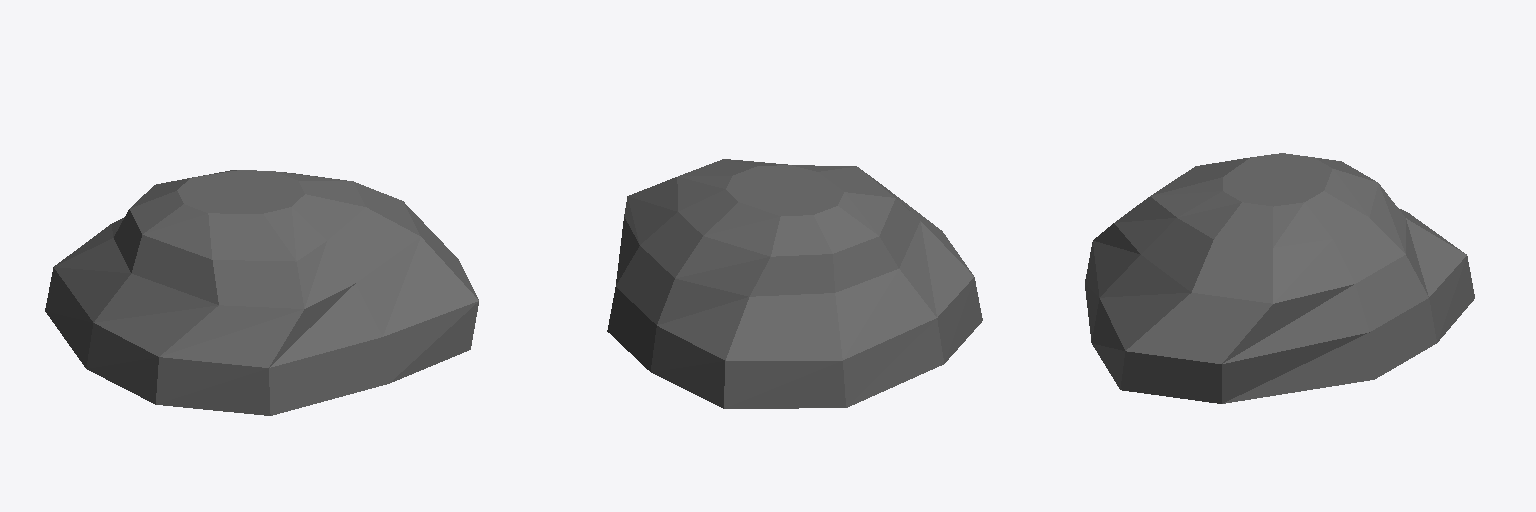
File: Rock4.obj
3 renders of one model, left to right at view 1: azimuth 30°, elevation 25°; view 2: azimuth 150°, elevation 25°; view 3: azimuth 270°, elevation 25°, orthographic.
Parts seen in each view (by area): view 1: pasted__pasted__pSphere1 pasted__pasted__pSphere1SmoothProxyGrou; view 2: pasted__pasted__pSphere1 pasted__pasted__pSphere1SmoothProxyGrou; view 3: pasted__pasted__pSphere1 pasted__pasted__pSphere1SmoothProxyGrou.
Boxes of the visible parts, <box> form: pasted__pasted__pSphere1 pasted__pasted__pSphere1SmoothProxyGrou: <box>45,170,478,415</box>; pasted__pasted__pSphere1 pasted__pasted__pSphere1SmoothProxyGrou: <box>607,159,982,408</box>; pasted__pasted__pSphere1 pasted__pasted__pSphere1SmoothProxyGrou: <box>1085,153,1474,403</box>.
Size of the model in its own units: 9.06 by 3.42 by 8.85.